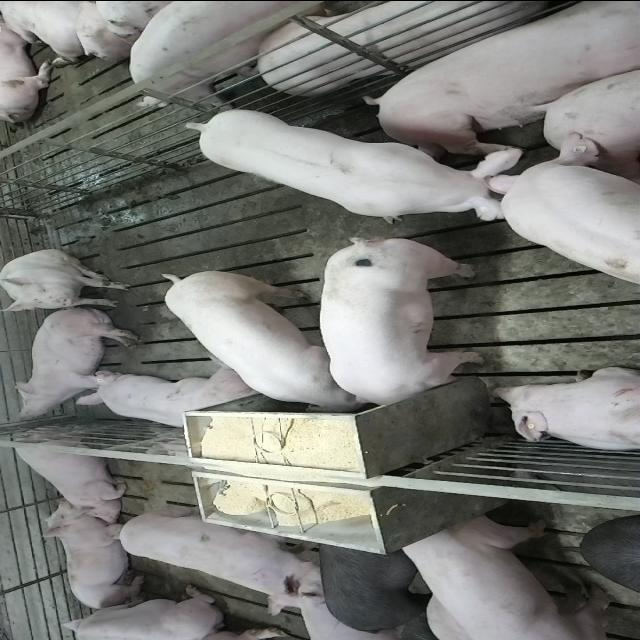Feeding: (160, 264, 368, 412), (318, 232, 484, 408)
Lateral_lying: (367, 4, 640, 160), (12, 306, 142, 419)
Sitting: (5, 426, 138, 516), (1, 248, 134, 311)
Standing: (187, 105, 537, 221), (257, 0, 566, 92), (393, 514, 620, 638), (122, 0, 350, 106), (105, 512, 324, 614), (491, 153, 640, 284), (315, 541, 442, 637)
Sternal_lying: (490, 366, 640, 452), (73, 367, 259, 431), (39, 506, 149, 610), (56, 584, 227, 637)
